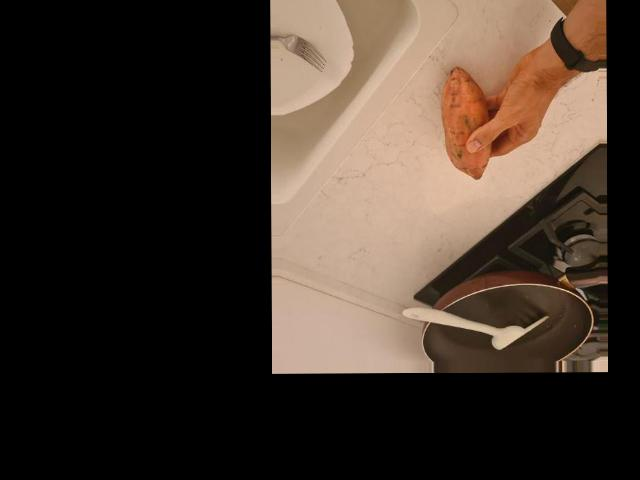sweet_potato: (446, 65, 493, 175)
